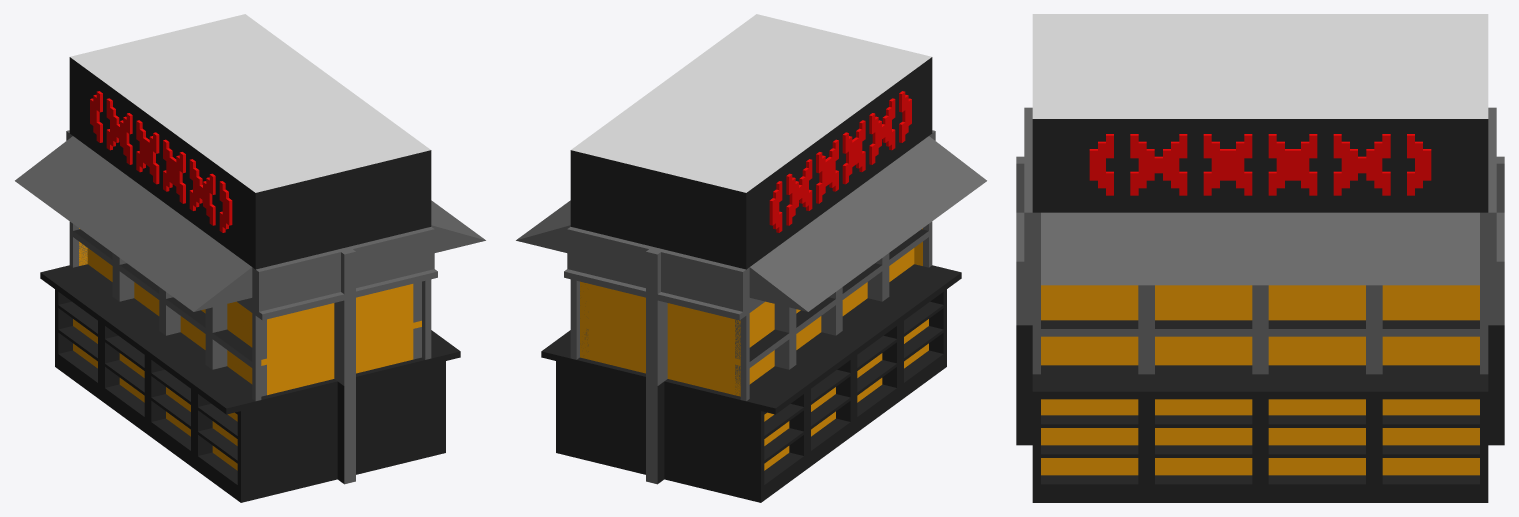
The model's file is Edificio 17.fbx.
3 views of the same model, side by side, from view 1: azimuth 30°, elevation 25°; view 2: azimuth 150°, elevation 25°; view 3: azimuth 270°, elevation 25° (orthographic). The views are drawn at different scales.
Parts seen in each view (by area): view 1: [304] (×2), Pared 1 [6251], [6282], Botellas [661], Botellas [655], Botellas [625], Botellas [658]; view 2: [304] (×2), Pared 1 [6248], [6282], Botellas [625], Botellas [658], Botellas [661], Botellas [655]; view 3: [304], [6282], Botellas [625], Botellas [655], Botellas [658], Botellas [661], Pared 1 [6248], Pared 1 [6251].
Boxes of the visible parts, x1,y1,x2,y2 form: [304] (×2): (15,57,485,502); Pared 1 [6251]: (255,150,437,499); [6282]: (70,14,430,192); Botellas [661]: (198,404,237,487); Botellas [655]: (105,335,144,419); Botellas [625]: (58,301,97,385); Botellas [658]: (151,370,190,453); [304] (×2): (516,57,986,502); Pared 1 [6248]: (564,150,746,499); [6282]: (571,14,931,192); Botellas [625]: (764,404,803,487); Botellas [658]: (857,335,896,419); Botellas [661]: (904,301,943,385); Botellas [655]: (811,370,850,453); [304]: (1032,119,1488,502); [6282]: (1032,14,1488,118); Botellas [625]: (1041,399,1138,487); Botellas [655]: (1155,399,1252,487); Botellas [658]: (1268,399,1365,487); Botellas [661]: (1382,399,1479,487); Pared 1 [6248]: (1488,107,1504,445); Pared 1 [6251]: (1016,107,1032,445).
Size of the model in its own units: 394 by 465 by 394.
